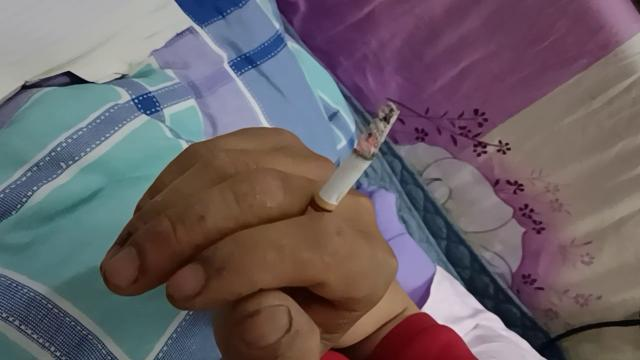Smoking: (296, 102, 400, 242)
